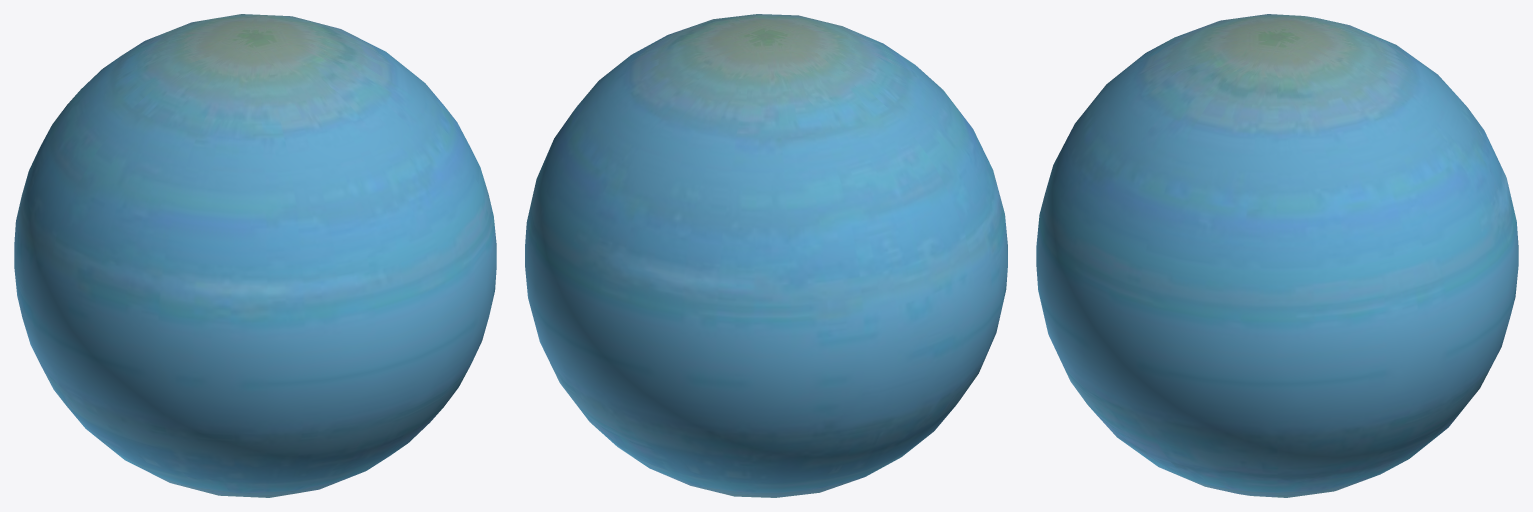
Rendered from uranus.obj.
3 views of the same model, side by side, from view 1: azimuth 30°, elevation 25°; view 2: azimuth 150°, elevation 25°; view 3: azimuth 270°, elevation 25° (orthographic).
Size of the model in its own units: 2 by 2 by 1.99.
Materials: 1 (1 with a texture image).
